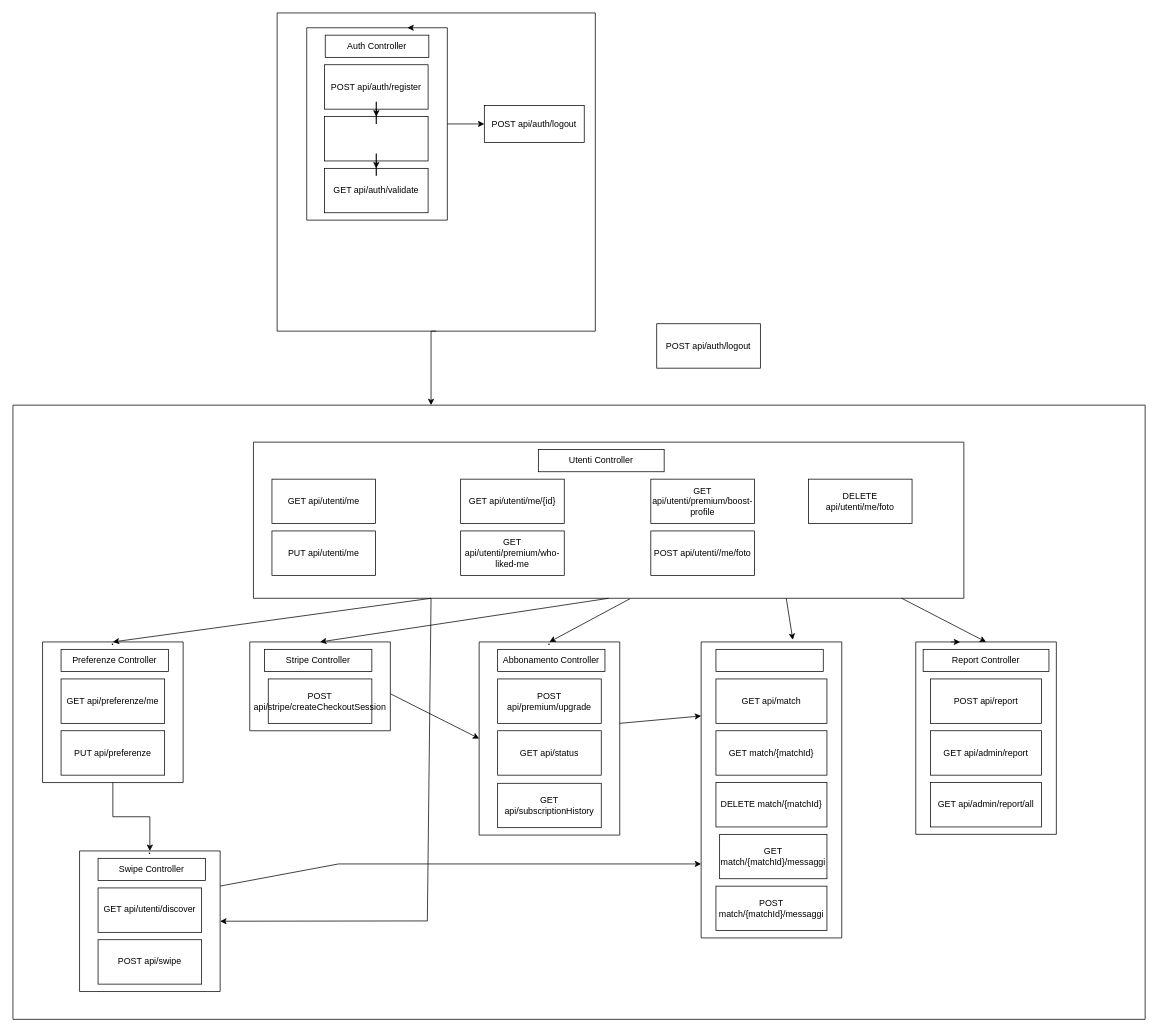
Image size: 1158x1032. Some labels were removed from this diagram. Each missing label, with the centre of its shape:
"Match Controller" goes at (x=769, y=660).
"POST api/auth/login" goes at (x=376, y=138).
